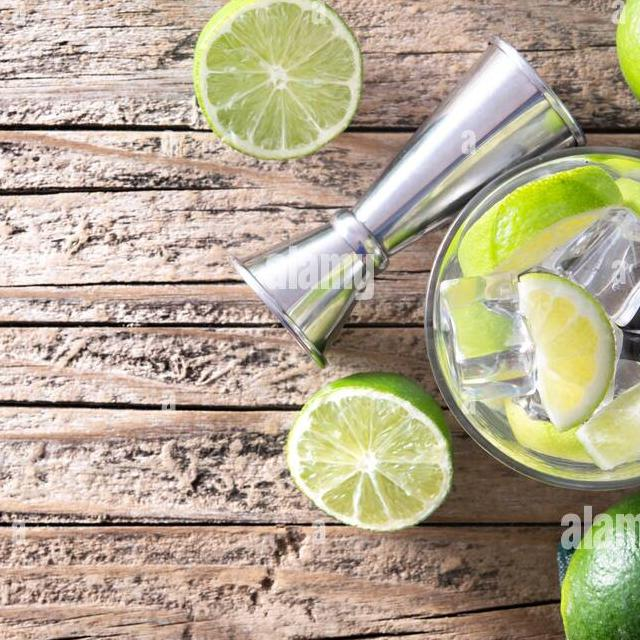lime: (540, 474, 640, 640)
